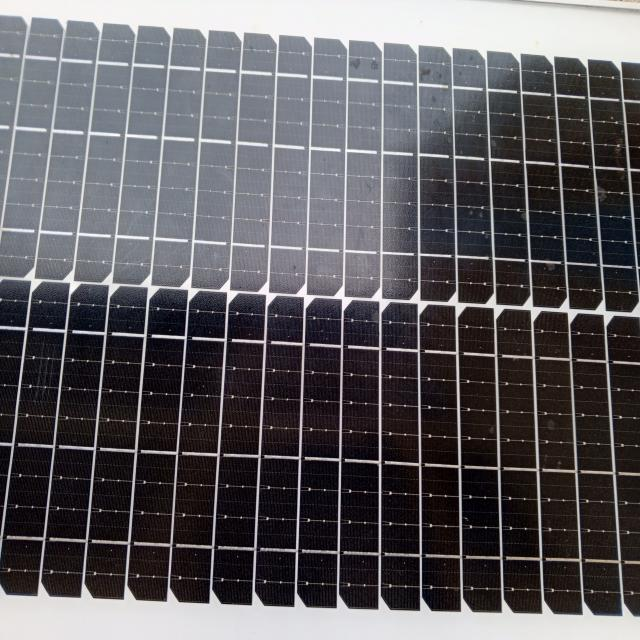Clean: (39, 51, 629, 616)
